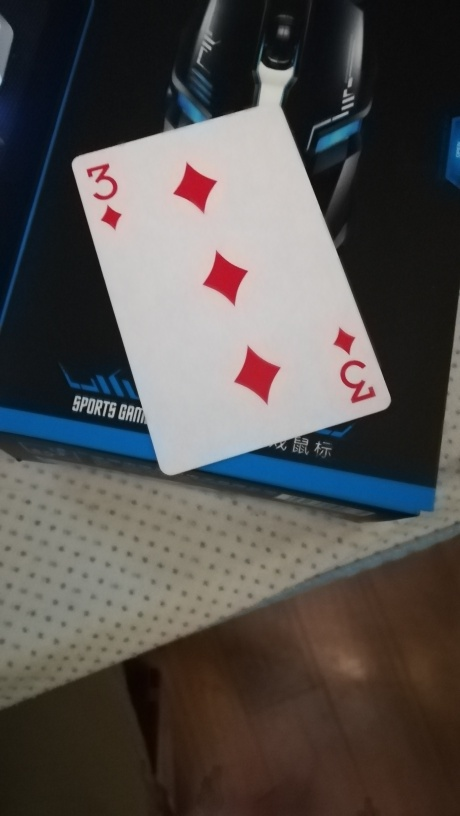fk 3: (71, 99, 396, 476)
